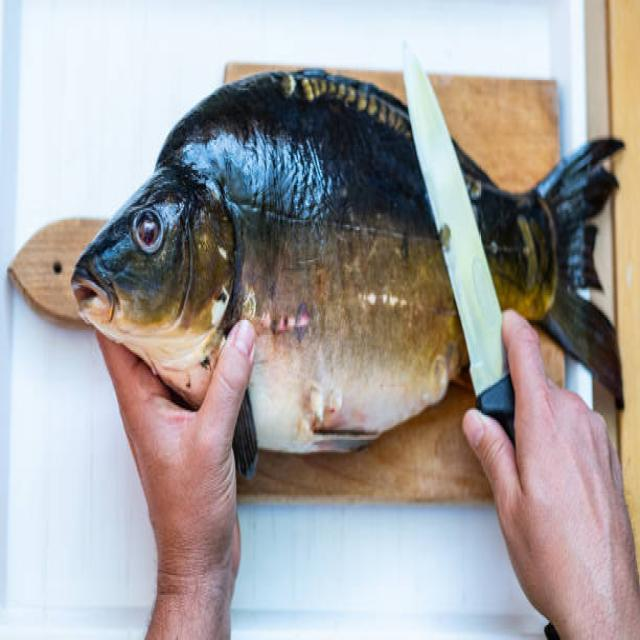faca: (396, 31, 639, 638)
